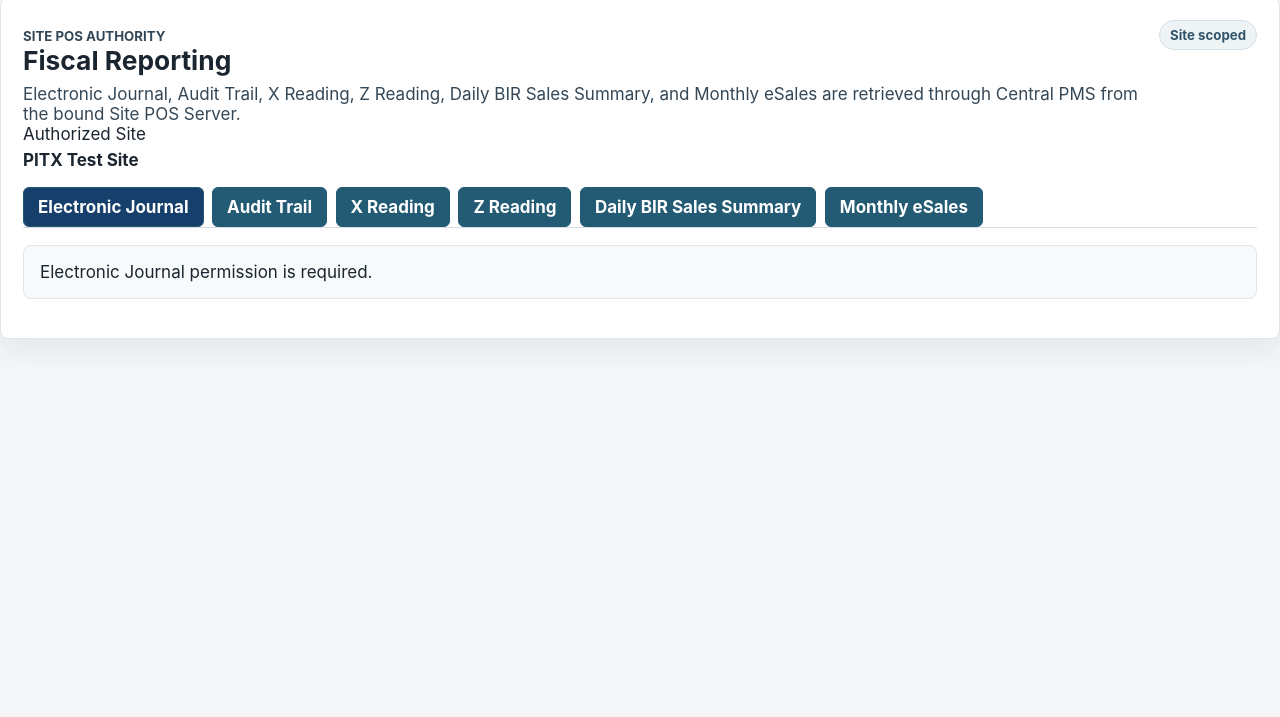
Test: Operator Console fiscal reporting › does not infer Z generation from Z read permission
The width and height of the screenshot is (1280, 717).
Click the tab "Z Reading" at (515, 207), box left=458, top=187, right=572, bottom=227
(page scrolled)
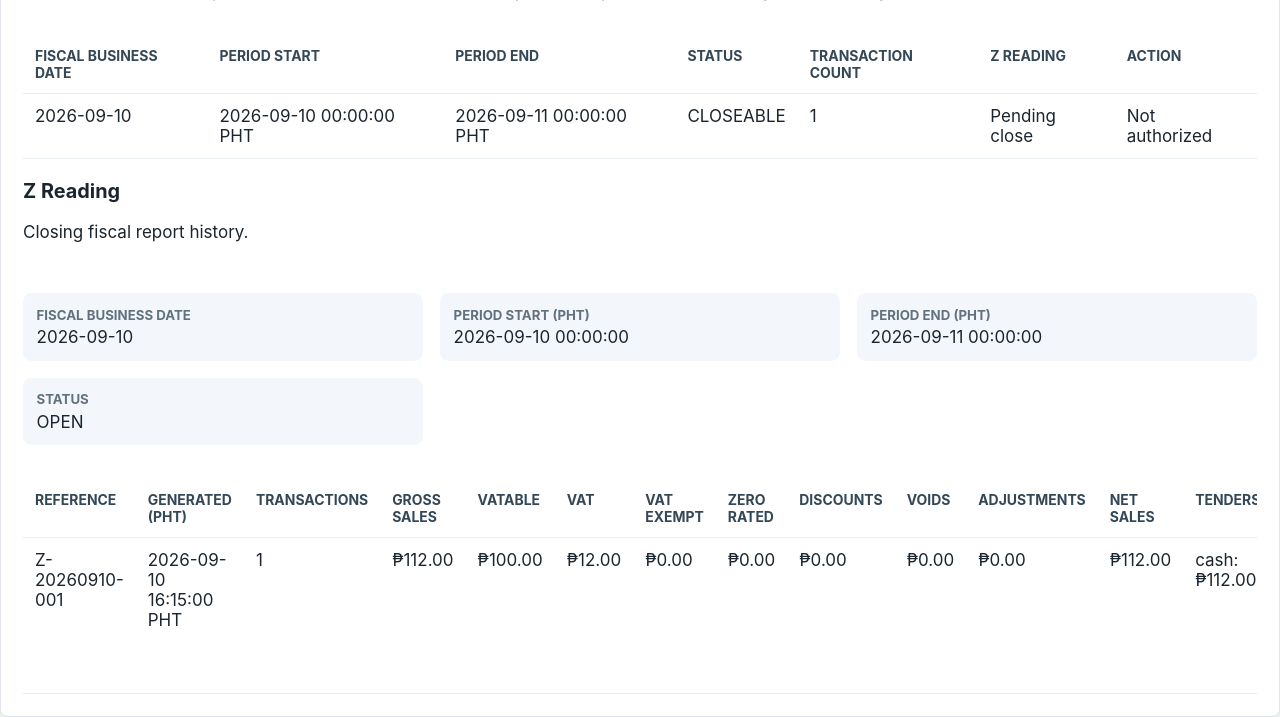
Now the text "Z-20260910-001" is shown, box left=23, top=538, right=136, bottom=694
